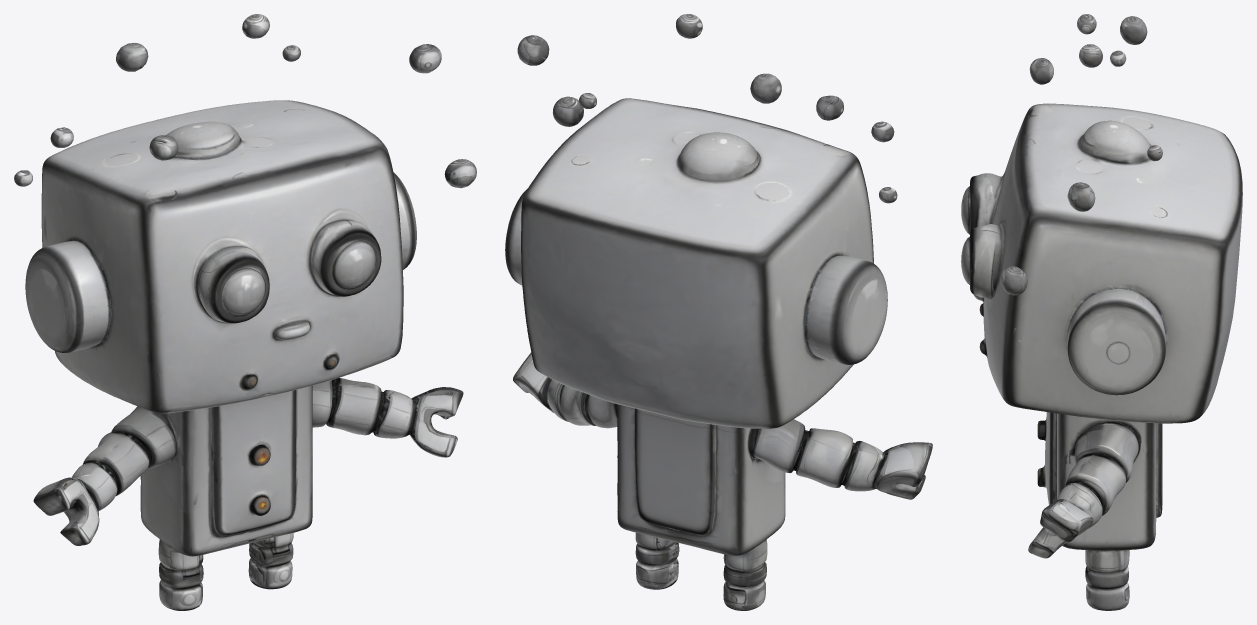
The model's file is Robot_Doodle_1002171232_texture.glb.
3 renders of one model, left to right at view 1: azimuth 30°, elevation 25°; view 2: azimuth 150°, elevation 25°; view 3: azimuth 270°, elevation 25°, orthographic. The views are drawn at different scales.
Bounding box in the file's own units: 1.44 × 1.9 × 0.8858.
Materials: 1 (1 with a texture image).
